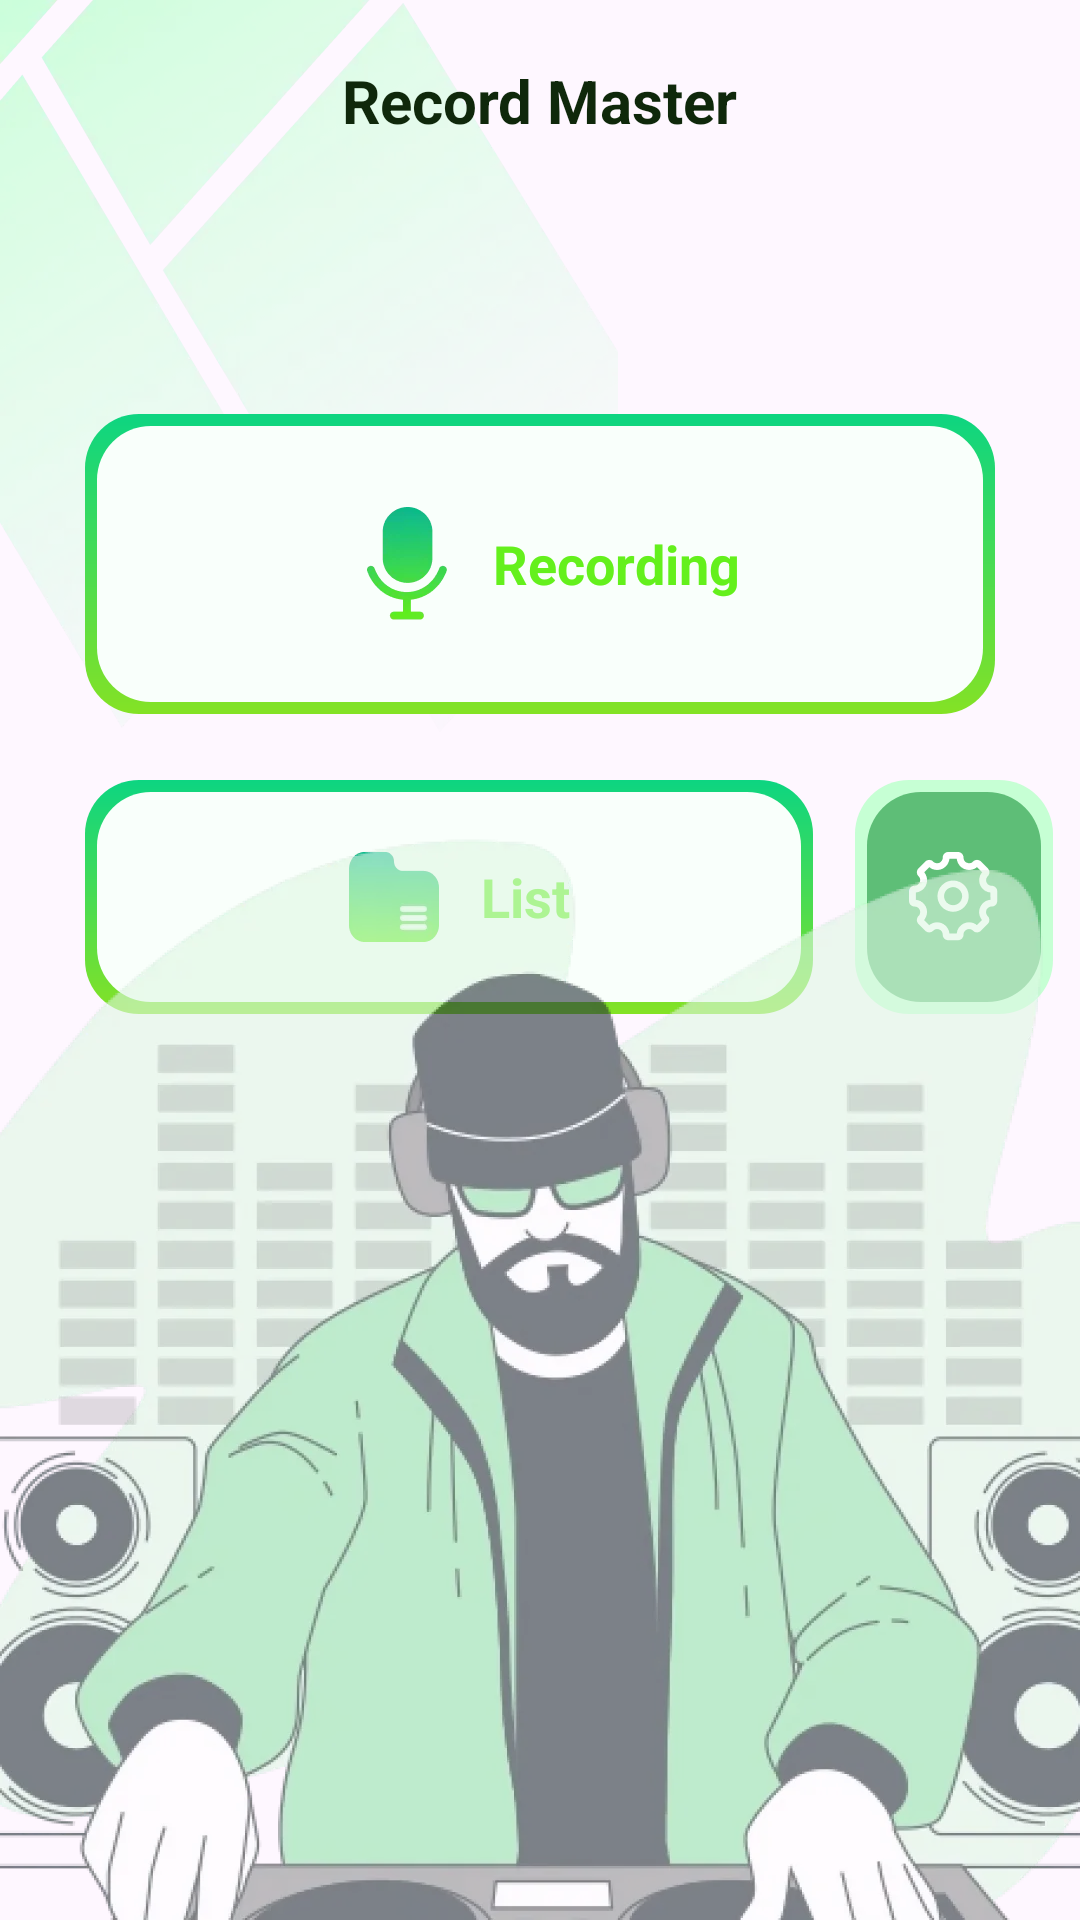

Where to tap for icons on this 1080×1920 app screen, as (x,y):
setting: (954,897)
